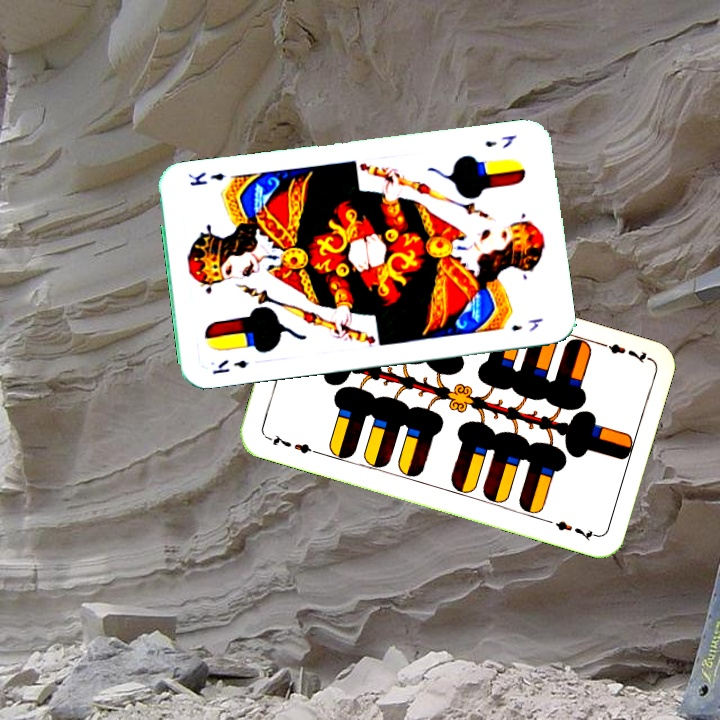E7: (593, 337, 651, 366), (263, 430, 321, 457)
EK: (209, 355, 250, 377), (481, 131, 519, 151)
